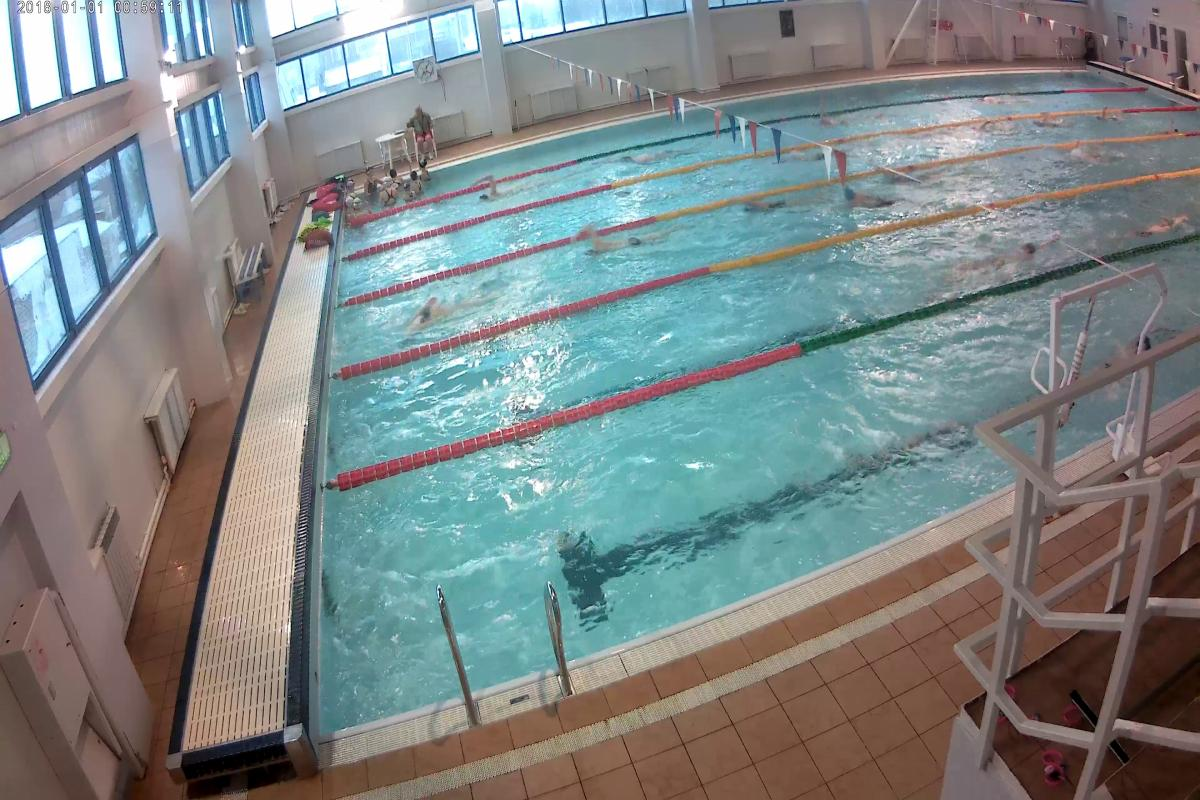swimmer: (407, 286, 535, 328), (936, 240, 1023, 286), (564, 230, 674, 264), (725, 187, 810, 220), (835, 186, 916, 212), (1128, 210, 1187, 245)
